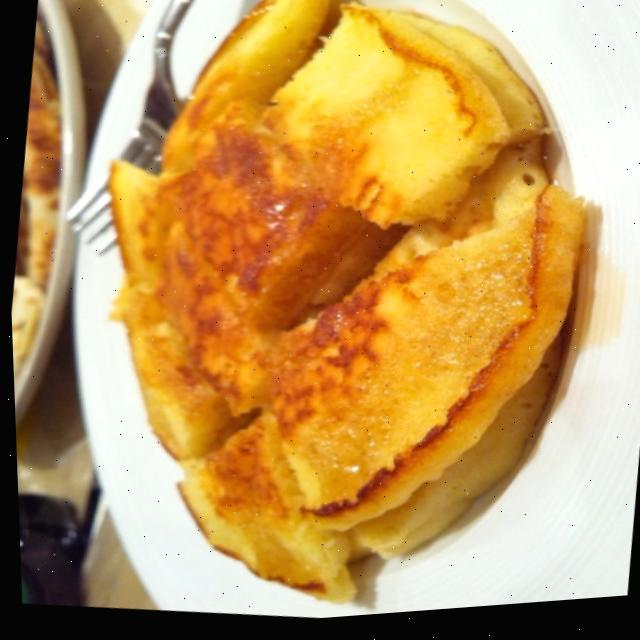蛋糕甜品: (15, 0, 640, 636)
